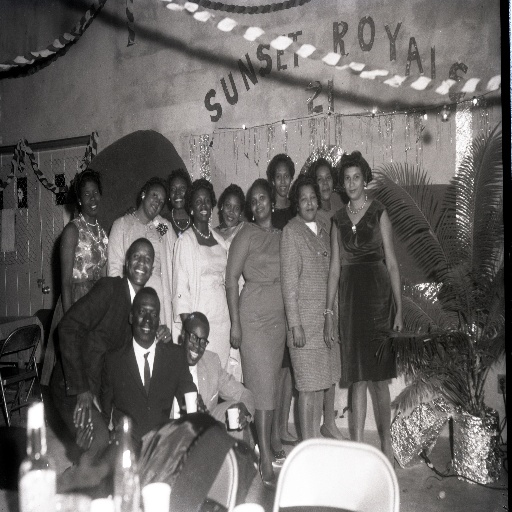hand: (73, 388, 102, 428), (225, 400, 250, 430), (179, 389, 208, 414), (74, 420, 94, 452), (322, 311, 335, 350), (229, 320, 243, 350), (155, 321, 171, 342), (292, 325, 307, 347), (392, 311, 405, 333), (122, 203, 136, 219), (336, 322, 342, 343)
